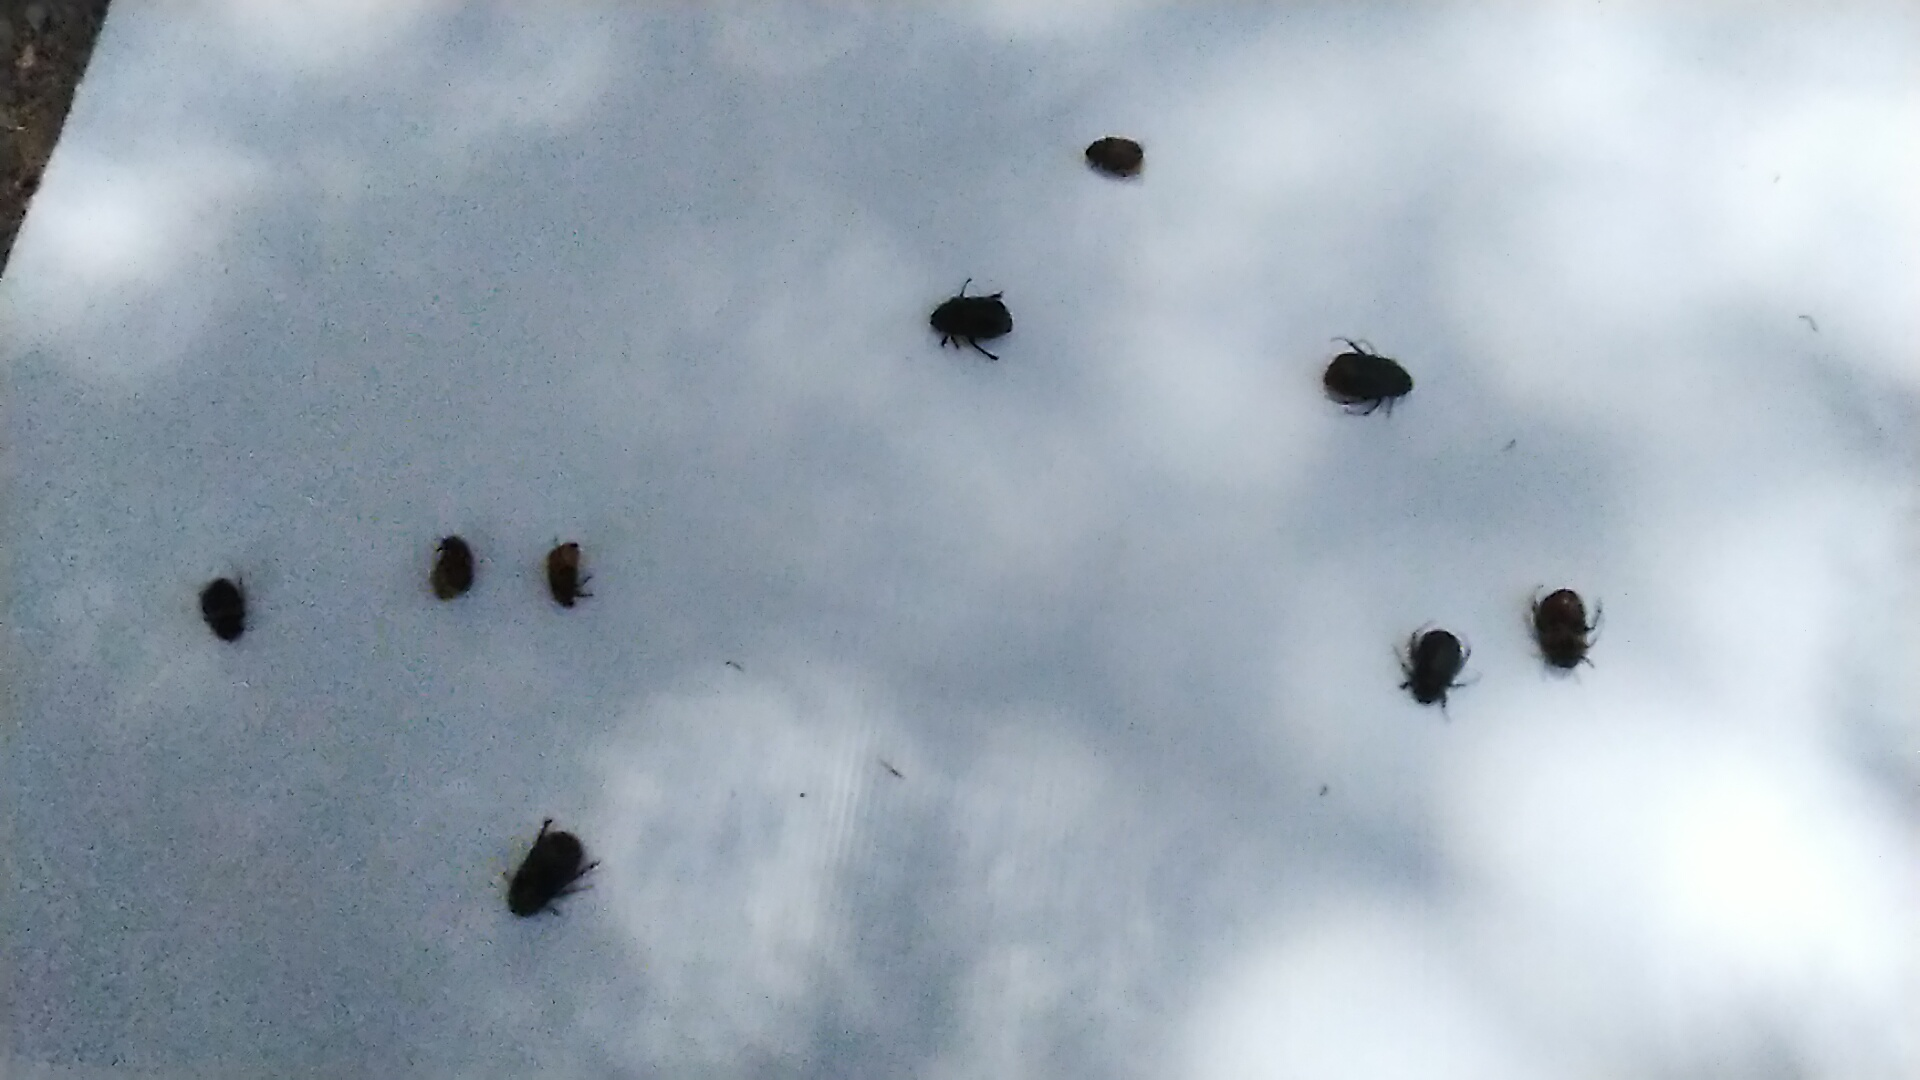INS-A: (491, 804, 608, 926), (1387, 620, 1489, 724), (1312, 326, 1425, 415), (1524, 564, 1607, 680), (920, 278, 1029, 365), (537, 516, 604, 618), (191, 563, 264, 649), (429, 526, 487, 607), (1079, 132, 1153, 179)
